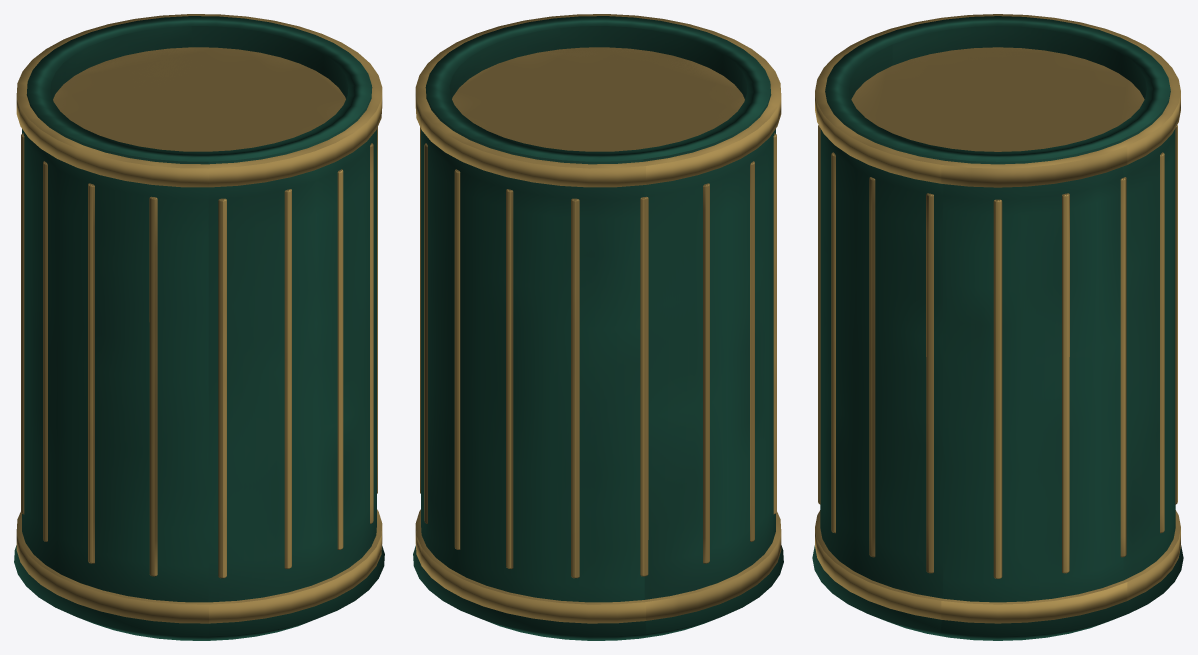
File: holder-04.gltf
3 views of the same model, side by side, from view 1: azimuth 30°, elevation 25°; view 2: azimuth 150°, elevation 25°; view 3: azimuth 270°, elevation 25° (orthographic).
Visible parts, largest first — view 1: holder-04; view 2: holder-04; view 3: holder-04.
Part boxes in pixels (x1,y1,x2,y2): holder-04: (14, 14, 384, 640); holder-04: (413, 14, 783, 640); holder-04: (812, 14, 1183, 640).
Bounding box in the file's own units: 0.142 × 0.205 × 0.142.
2 materials, 2 textured.
